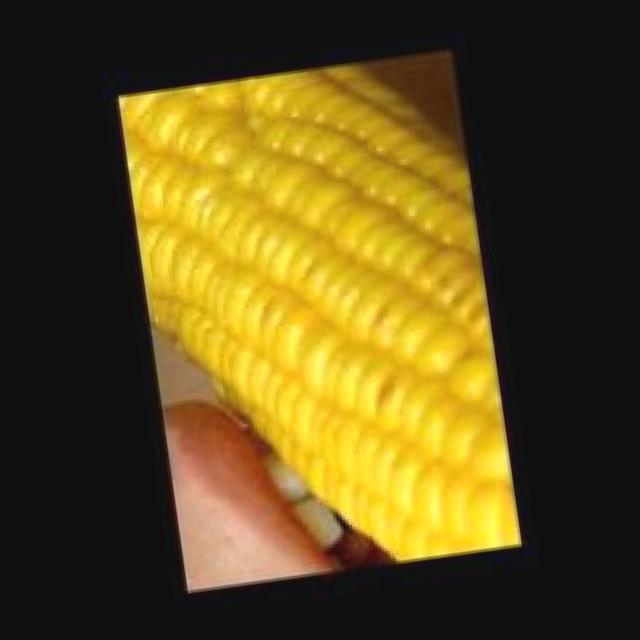corn: (118, 44, 524, 563)
